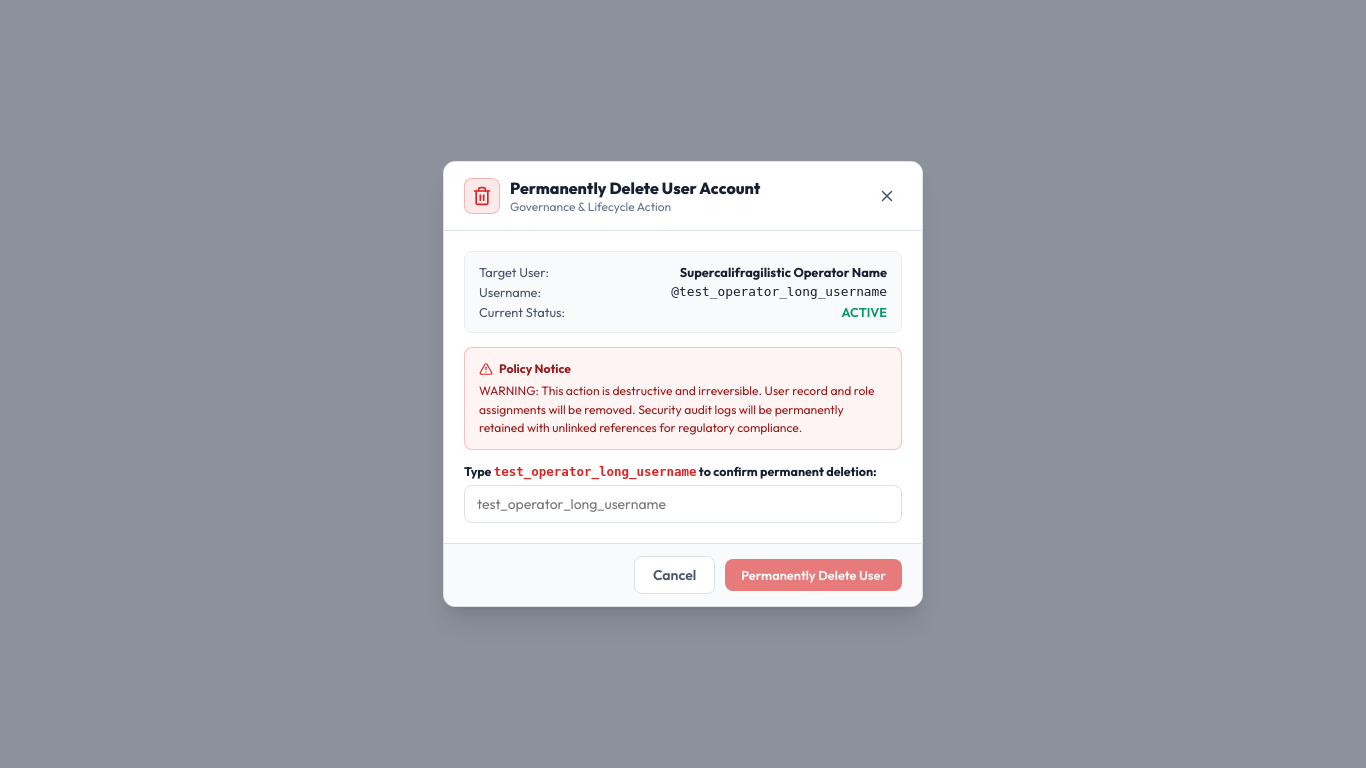
Phase 11: Mobile / Tablet Responsive & Accessibility Suite › 7. Delete confirmation modal enforces case-sensitive type-to-confirm
Expected: the button "Permanently Delete User" is disabled, [725,559,902,591]
Type "wrong_username" into the field with placeholder "test_operator_long_username". click: coordinates (683, 504)
box: [464,485,902,523]
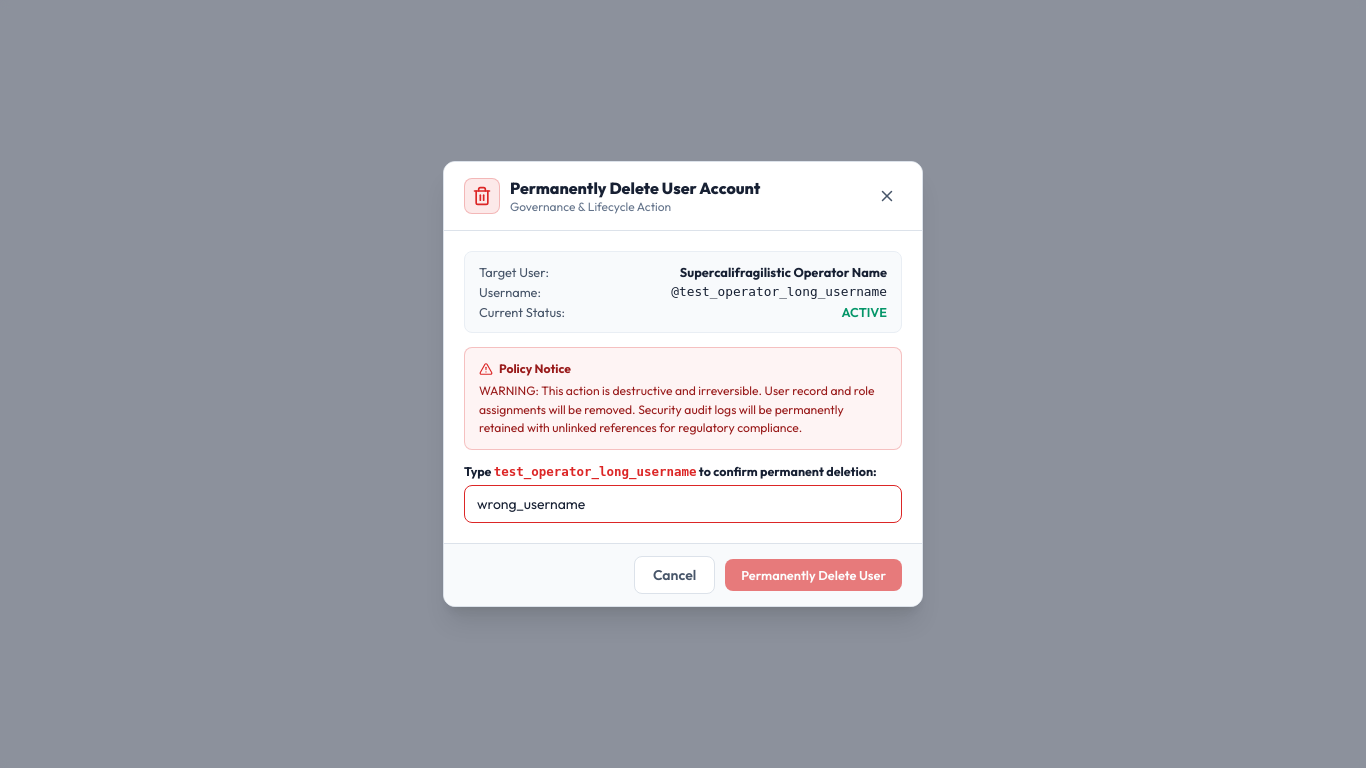
Expected: the button "Permanently Delete User" is disabled, [725,559,902,591]
Replace the text in the field with placeholder "test_operator_long_username" with "test_operator_long_username". click: coordinates (683, 504)
box: [464,485,902,523]
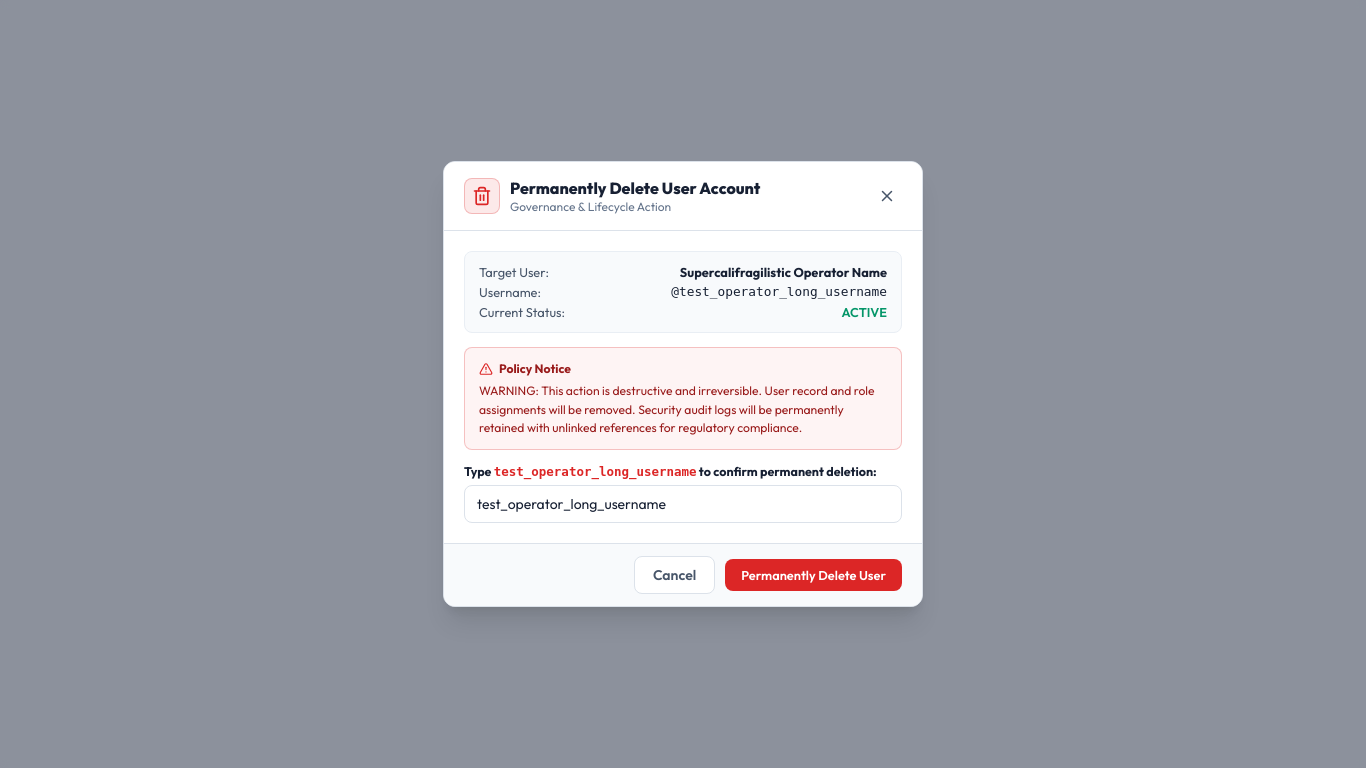
Now the button "Permanently Delete User" is enabled, box [725,559,902,591]
